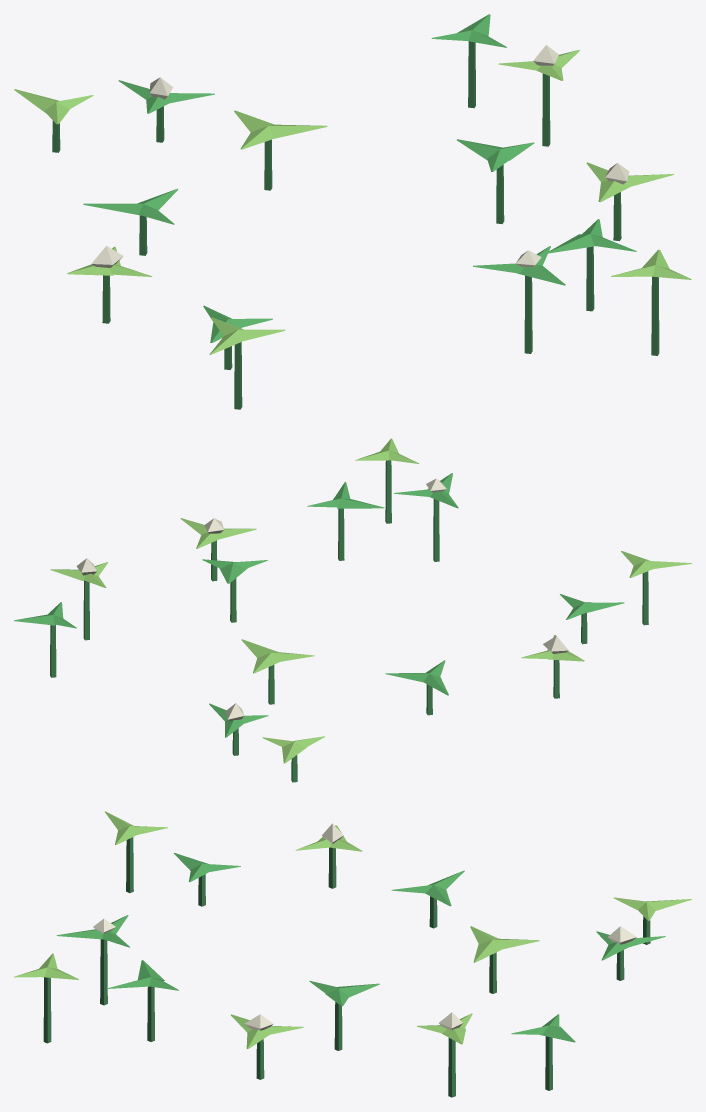
Rendered from clover_patch_b.glb.
3 views of the same model, one above another, from view 1: azimuth 30°, elevation 25°; view 2: azimuth 150°, elevation 25°; view 3: azimuth 270°, elevation 25° (orthographic). The views are drawn at different scales.
Visible parts, largest first — view 1: CloverPatchB; view 2: CloverPatchB; view 3: CloverPatchB.
Part boxes in pixels (x1,y1,x2,y2): CloverPatchB: (14,14,691,409); CloverPatchB: (14,438,691,782); CloverPatchB: (14,811,691,1097).
Bounding box in the file's own units: 0.5225 × 0.0868 × 0.6242.
